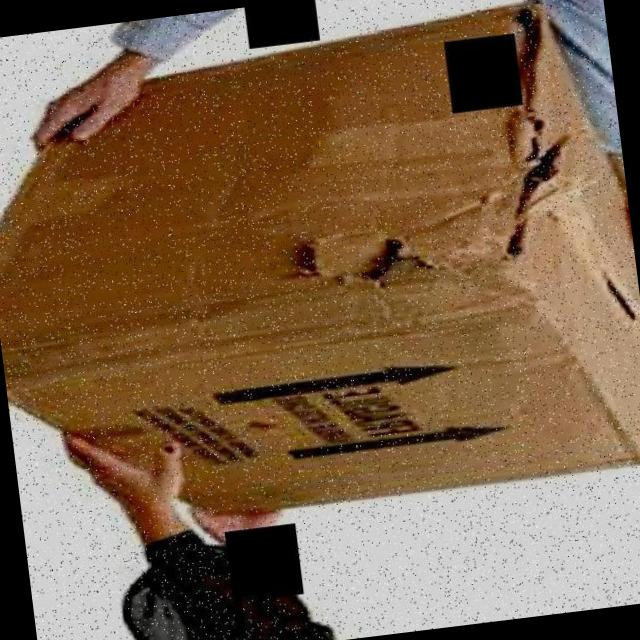box: (0, 2, 640, 548)
